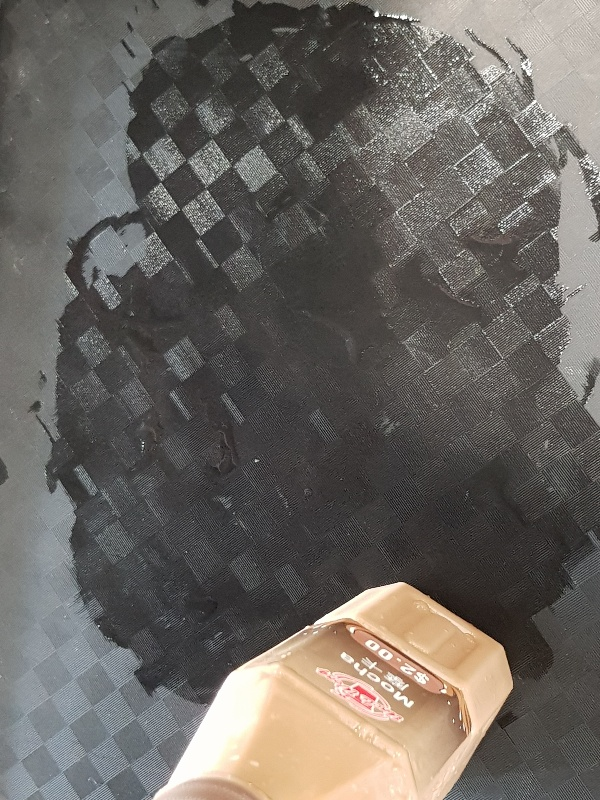Mocha: (152, 578, 514, 800)
